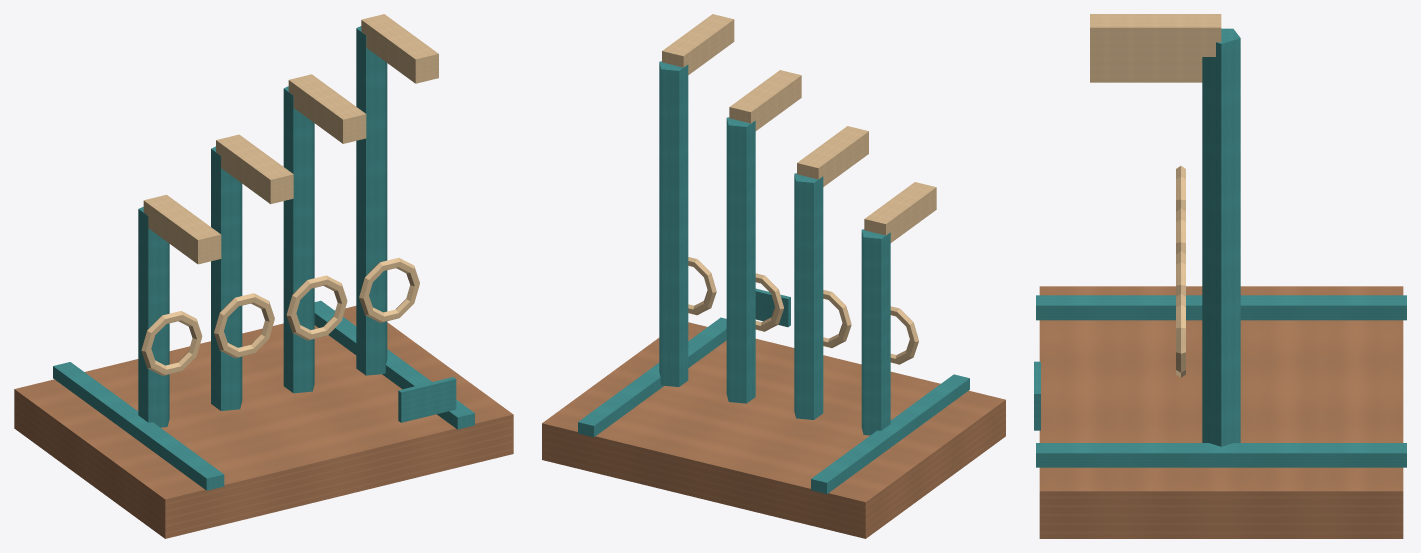
Rendered from atlas100-s094-a03.lod1.glb.
3 views of the same model, side by side, from view 1: azimuth 30°, elevation 25°; view 2: azimuth 150°, elevation 25°; view 3: azimuth 270°, elevation 25° (orthographic). The views are drawn at different scales.
Visible parts, largest first — view 1: atlas100-s094-a03:part-000, atlas100-s094-a03:part-012, atlas100-s094-a03:part-009, atlas100-s094-a03:part-006, atlas100-s094-a03:part-003, atlas100-s094-a03:part-001, atlas100-s094-a03:part-005, atlas100-s094-a03:part-011, atlas100-s094-a03:part-014, atlas100-s094-a03:part-008, atlas100-s094-a03:part-002, atlas100-s094-a03:part-015 (+4 smaller); view 2: atlas100-s094-a03:part-000, atlas100-s094-a03:part-012, atlas100-s094-a03:part-009, atlas100-s094-a03:part-006, atlas100-s094-a03:part-003, atlas100-s094-a03:part-001, atlas100-s094-a03:part-002, atlas100-s094-a03:part-011, atlas100-s094-a03:part-005, atlas100-s094-a03:part-014, atlas100-s094-a03:part-008, atlas100-s094-a03:part-015 (+4 smaller); view 3: atlas100-s094-a03:part-000, atlas100-s094-a03:part-012, atlas100-s094-a03:part-002, atlas100-s094-a03:part-001, atlas100-s094-a03:part-014, atlas100-s094-a03:part-005, atlas100-s094-a03:part-011, atlas100-s094-a03:part-008, atlas100-s094-a03:part-013, atlas100-s094-a03:part-015.
Part boxes in pixels (x1=…): atlas100-s094-a03:part-000: x1=14, y1=306, x2=513, y2=538; atlas100-s094-a03:part-012: x1=356, y1=26, x2=387, y2=375; atlas100-s094-a03:part-009: x1=283, y1=86, x2=314, y2=393; atlas100-s094-a03:part-006: x1=211, y1=146, x2=242, y2=410; atlas100-s094-a03:part-003: x1=138, y1=206, x2=169, y2=427; atlas100-s094-a03:part-001: x1=53, y1=362, x2=224, y2=490; atlas100-s094-a03:part-005: x1=143, y1=194, x2=221, y2=264; atlas100-s094-a03:part-011: x1=288, y1=74, x2=366, y2=143; atlas100-s094-a03:part-014: x1=361, y1=14, x2=438, y2=83; atlas100-s094-a03:part-008: x1=216, y1=134, x2=293, y2=204; atlas100-s094-a03:part-002: x1=314, y1=300, x2=474, y2=429; atlas100-s094-a03:part-015: x1=398, y1=377, x2=456, y2=422; atlas100-s094-a03:part-000: x1=542, y1=322, x2=1005, y2=538; atlas100-s094-a03:part-012: x1=659, y1=61, x2=688, y2=386; atlas100-s094-a03:part-009: x1=726, y1=117, x2=755, y2=403; atlas100-s094-a03:part-006: x1=794, y1=173, x2=823, y2=419; atlas100-s094-a03:part-003: x1=861, y1=229, x2=890, y2=435; atlas100-s094-a03:part-001: x1=811, y1=374, x2=969, y2=493; atlas100-s094-a03:part-002: x1=578, y1=317, x2=726, y2=437; atlas100-s094-a03:part-011: x1=729, y1=70, x2=801, y2=130; atlas100-s094-a03:part-005: x1=864, y1=182, x2=936, y2=242; atlas100-s094-a03:part-014: x1=662, y1=14, x2=734, y2=74; atlas100-s094-a03:part-008: x1=797, y1=126, x2=868, y2=186; atlas100-s094-a03:part-015: x1=755, y1=288, x2=790, y2=327; atlas100-s094-a03:part-000: x1=1039, y1=286, x2=1403, y2=538; atlas100-s094-a03:part-012: x1=1202, y1=28, x2=1240, y2=446; atlas100-s094-a03:part-002: x1=1036, y1=443, x2=1406, y2=467; atlas100-s094-a03:part-001: x1=1036, y1=295, x2=1406, y2=320; atlas100-s094-a03:part-014: x1=1090, y1=14, x2=1221, y2=56; atlas100-s094-a03:part-005: x1=1090, y1=74, x2=1202, y2=82; atlas100-s094-a03:part-011: x1=1090, y1=57, x2=1202, y2=65; atlas100-s094-a03:part-008: x1=1090, y1=65, x2=1202, y2=73; atlas100-s094-a03:part-013: x1=1176, y1=294, x2=1185, y2=377; atlas100-s094-a03:part-015: x1=1034, y1=361, x2=1040, y2=430.
Bounding box in the file's own units: 2.4 × 2.62 × 1.85.
Materials: 3 (3 with a texture image).
